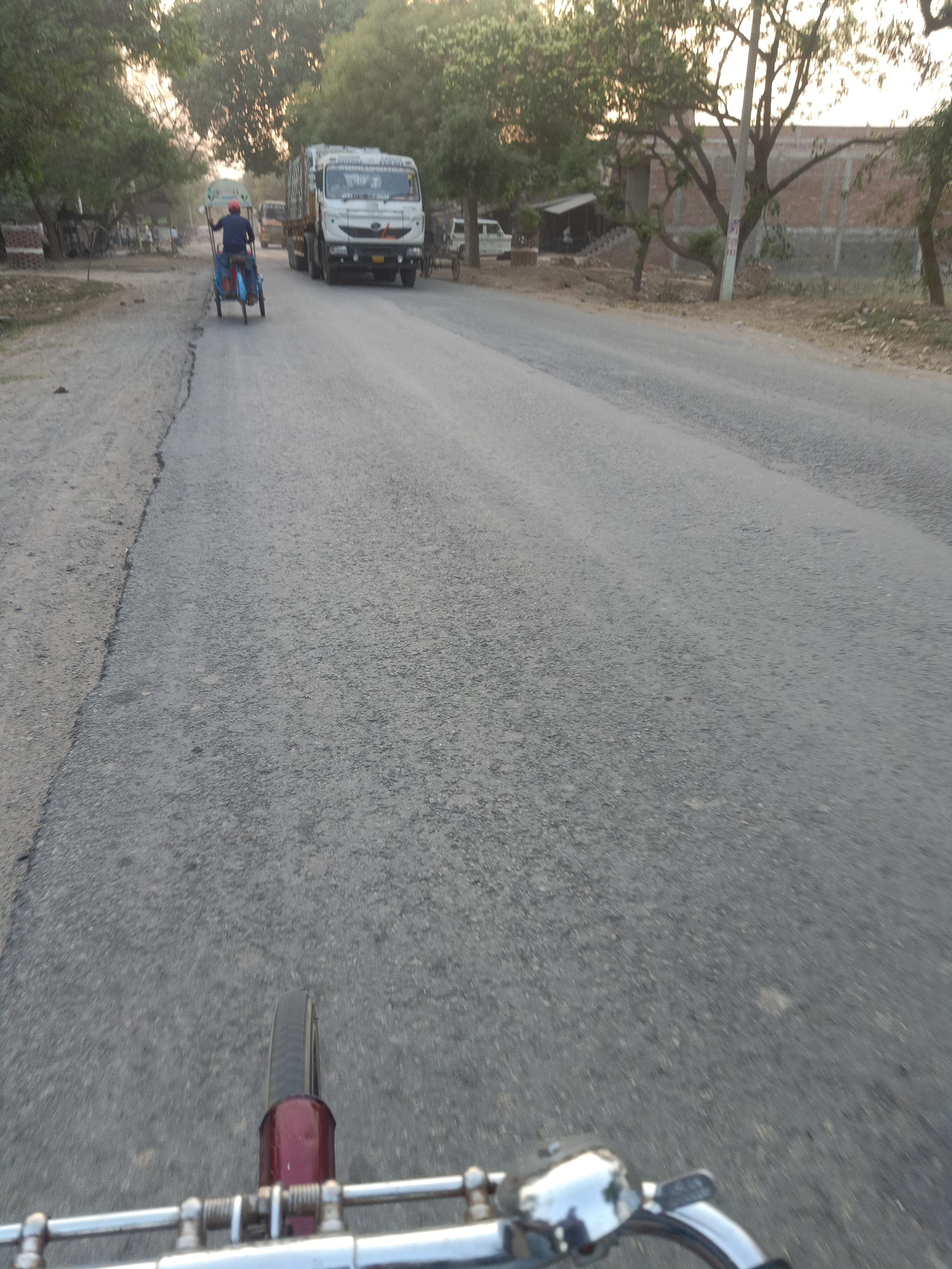non-ambulance: (250, 119, 509, 305)
